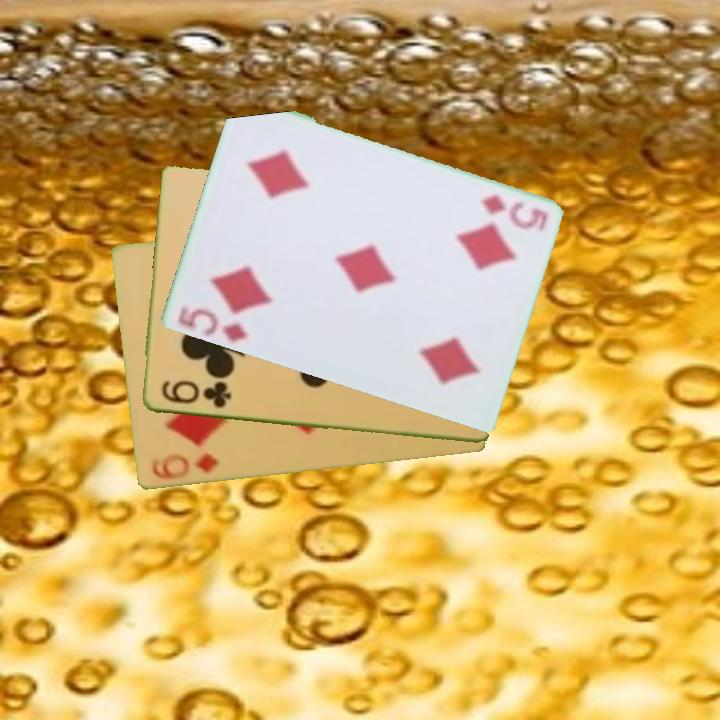5d: (174, 305, 252, 347), (477, 192, 550, 231)
6c: (157, 377, 234, 411)
6d: (147, 450, 221, 483)
